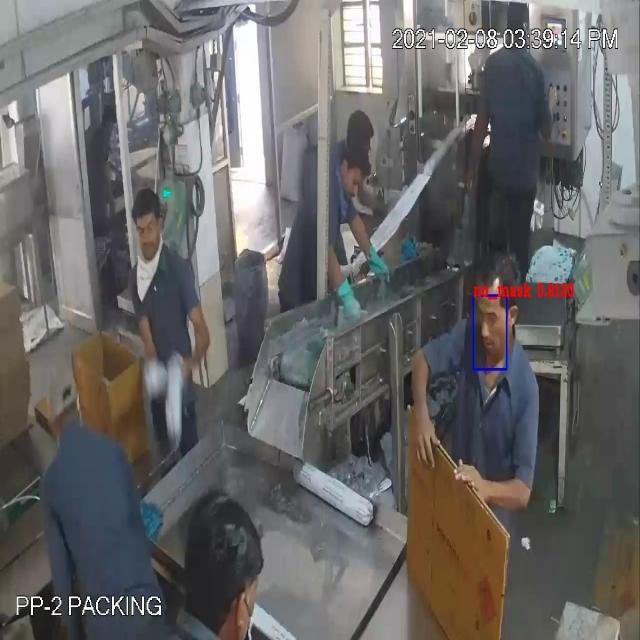No_Gloves: (32, 71, 497, 482)
